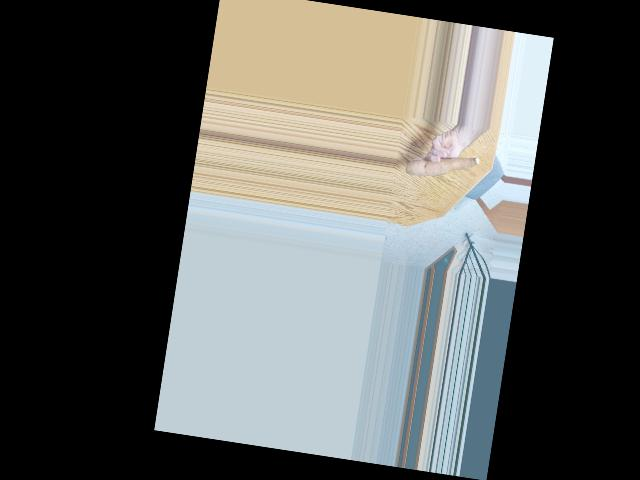sweet_potato: (405, 144, 481, 187)
